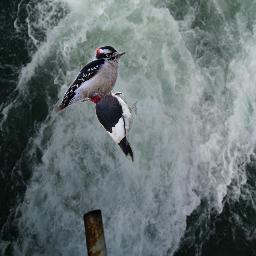Woodpecker: (56, 46, 126, 114), (77, 85, 138, 162)
